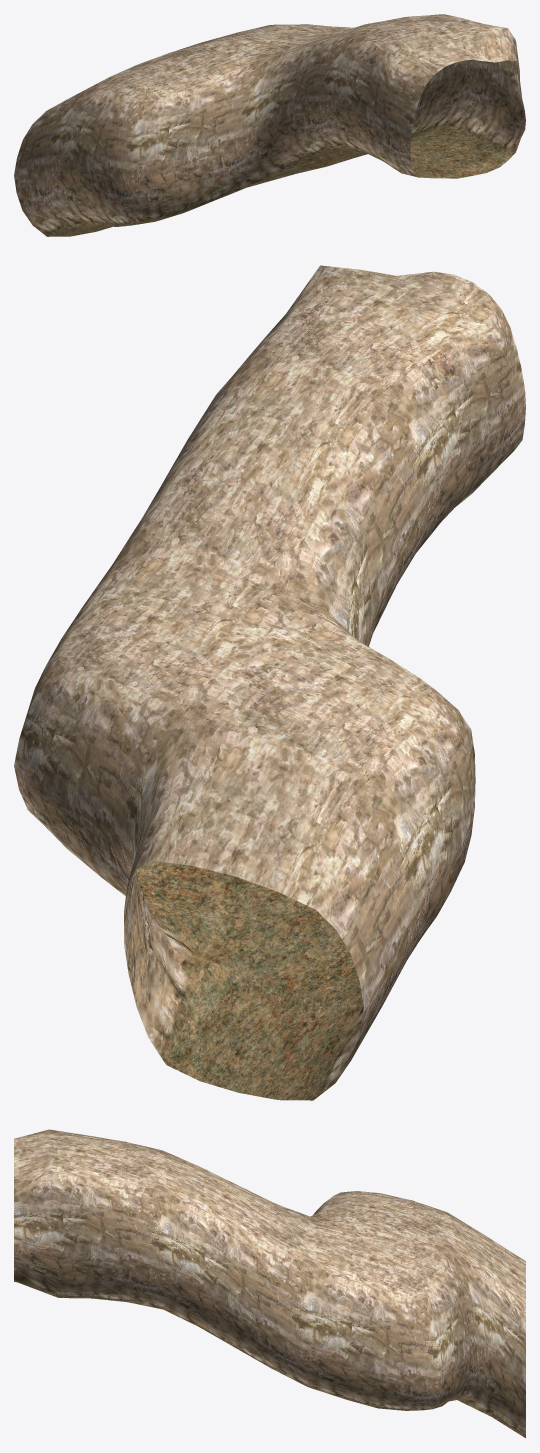
The model's file is thm_all_cave_s01_mirror_r1_mesh_r1.fbx.
3 views of the same model, one above another, from view 1: azimuth 30°, elevation 25°; view 2: azimuth 150°, elevation 25°; view 3: azimuth 270°, elevation 25° (orthographic). The views are drawn at different scales.
Parts seen in each view (by area): view 1: mesh_node; view 2: mesh_node; view 3: mesh_node.
Boxes of the visible parts, left/top/right/bottom form: mesh_node: left=14, top=14, right=525, bottom=236; mesh_node: left=14, top=265, right=525, bottom=1100; mesh_node: left=14, top=1129, right=525, bottom=1438.
Size of the model in its own units: 22.85 by 25.54 by 35.
